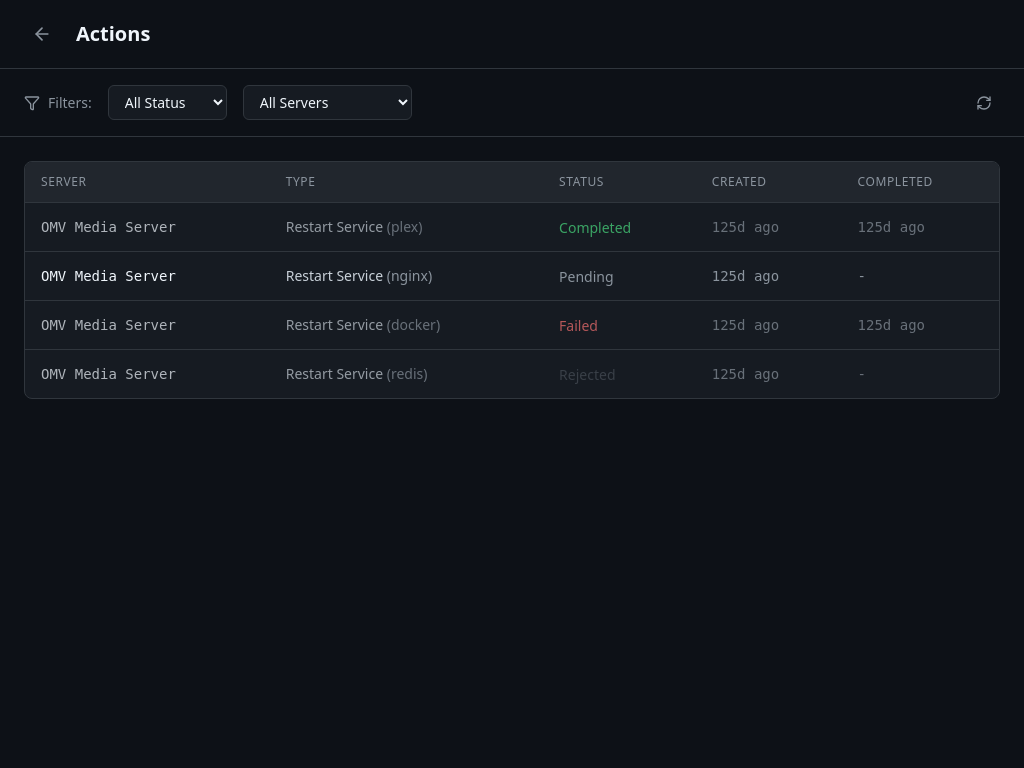
Test: ActionsPage › Rejection details (TC179) › shows rejection reason for rejected action
Click the row with test id "action-row-4": click(108, 374) [25,350,999,398]
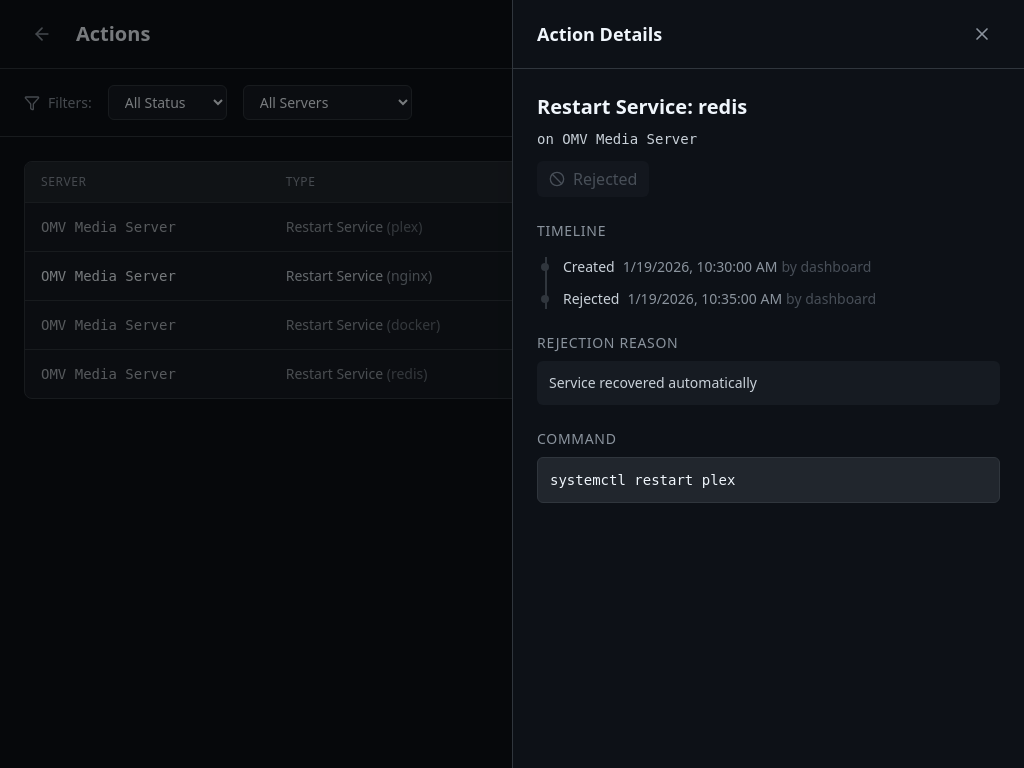
Check: the text with test id "rejection-reason" reads "Service recovered automatically", box [549,373,757,392]
